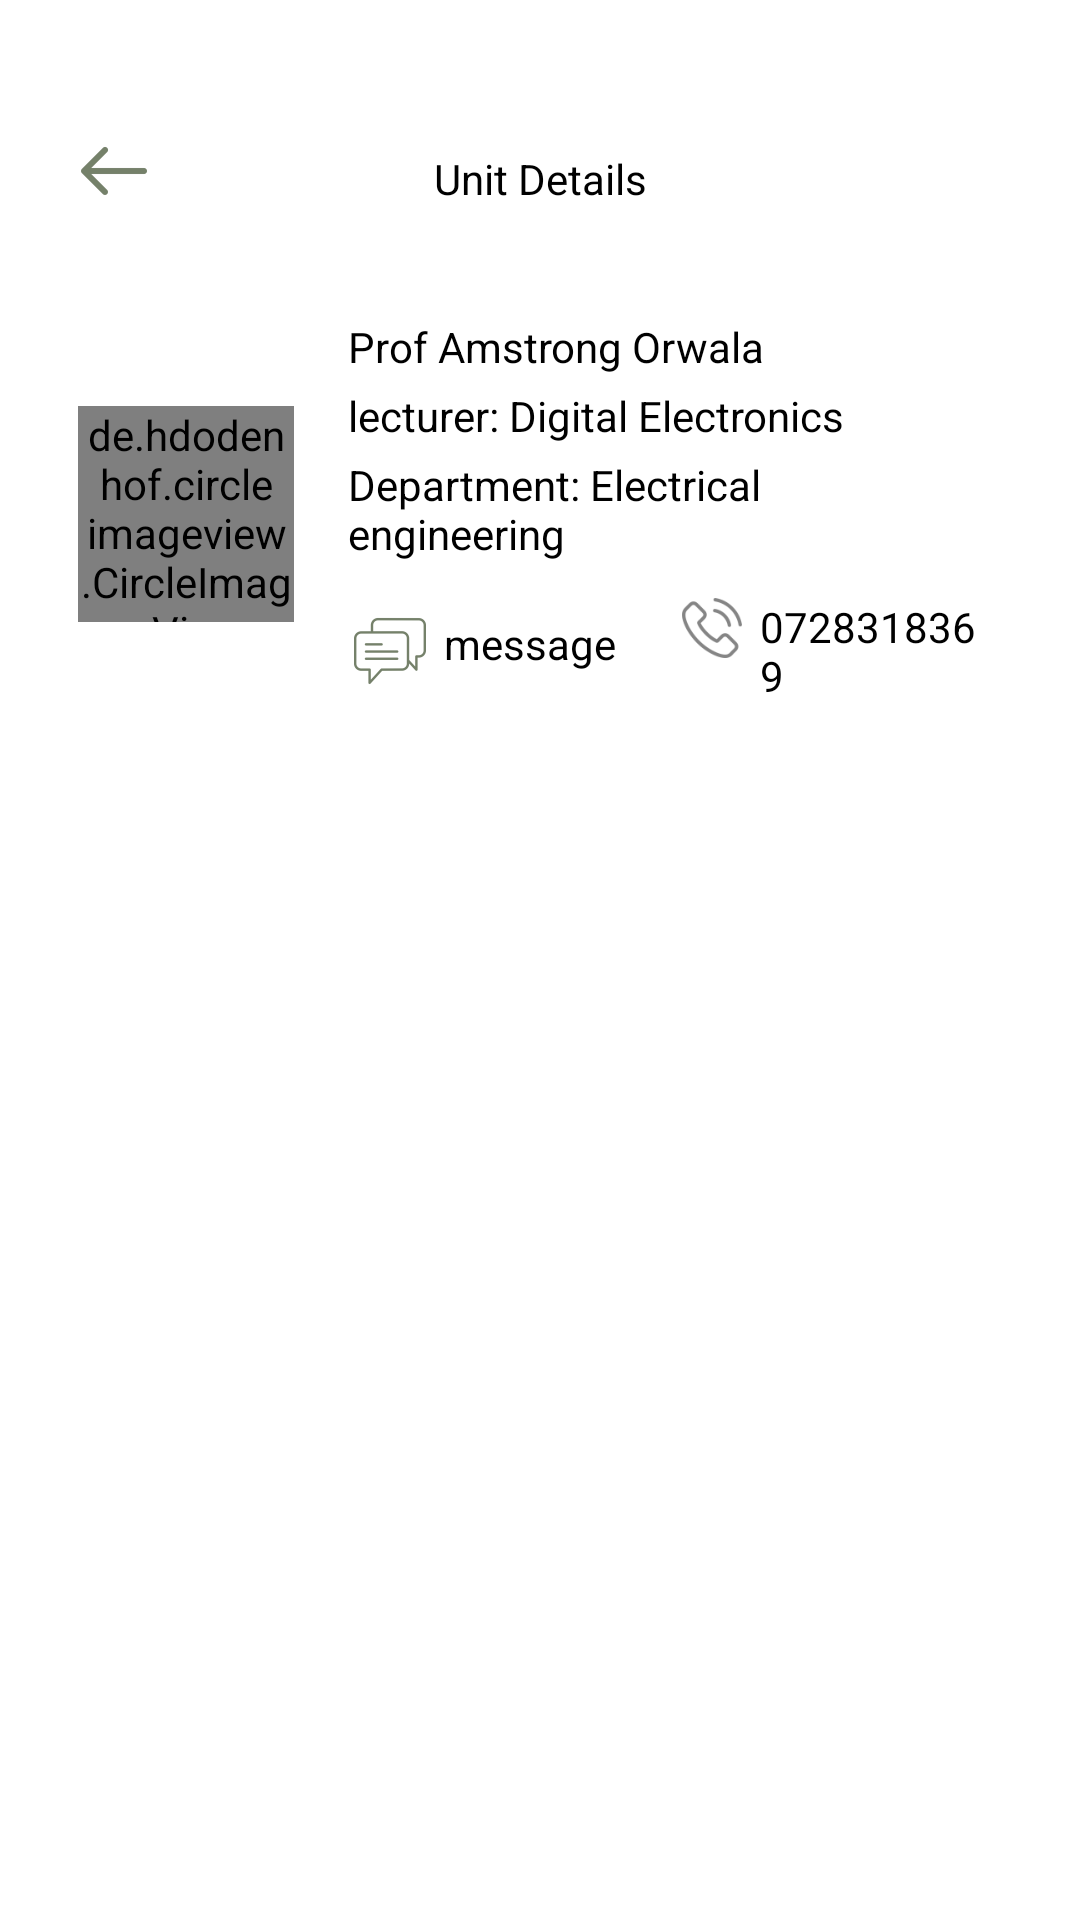

Icons on this 1080px×1920px Android screen, each with the point to tap as [x,y]:
back arrow: [114,171]
chats: [390,651]
pone: [712,628]
